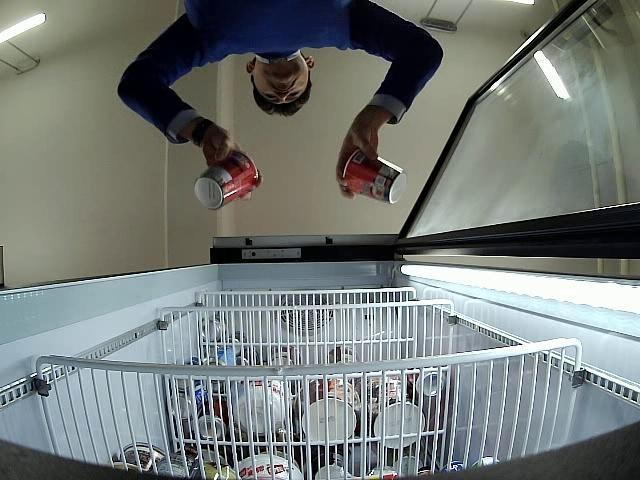02_shinRamen_S: (194, 152, 262, 210), (344, 150, 406, 202)
